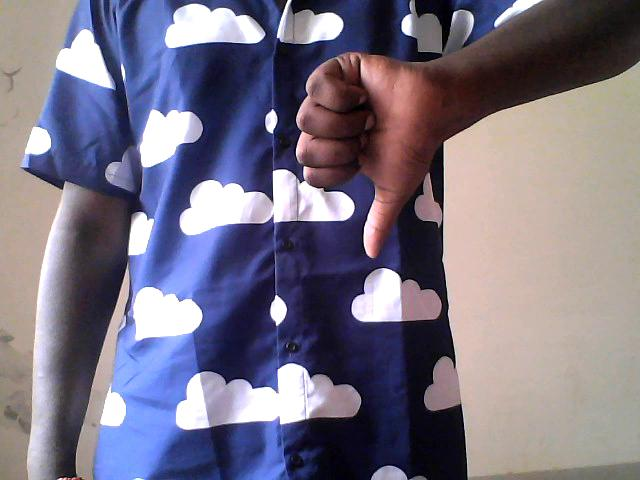thumbs-down: (275, 44, 505, 269)
